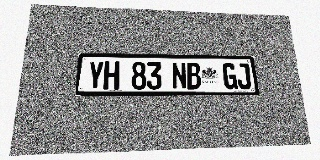3: (147, 62, 162, 89)
8: (131, 62, 146, 89)
B: (186, 62, 201, 89)
G: (222, 63, 238, 89)
H: (103, 61, 120, 90)
J: (236, 63, 252, 89)
N: (172, 62, 187, 89)
Y: (87, 61, 104, 90)
